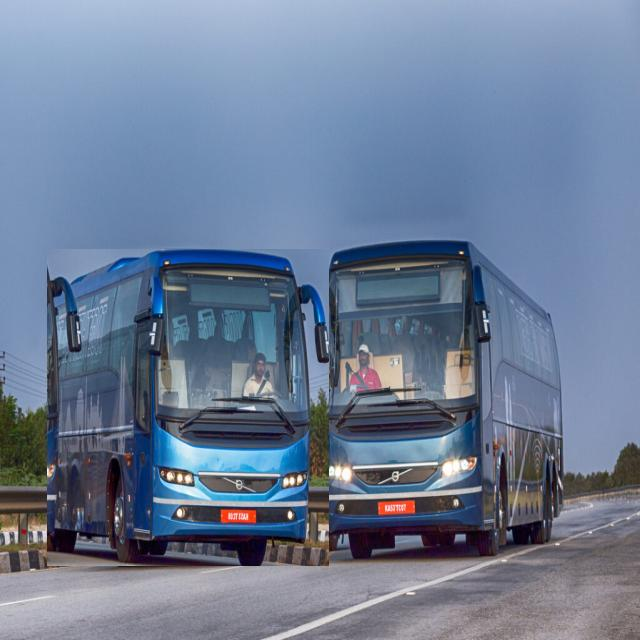bus: (48, 250, 329, 566), (298, 242, 564, 558)
